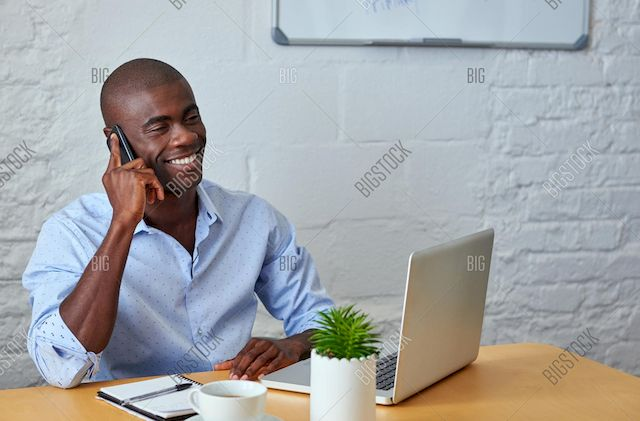phone: (106, 131, 146, 189)
talk: (100, 99, 209, 222)
